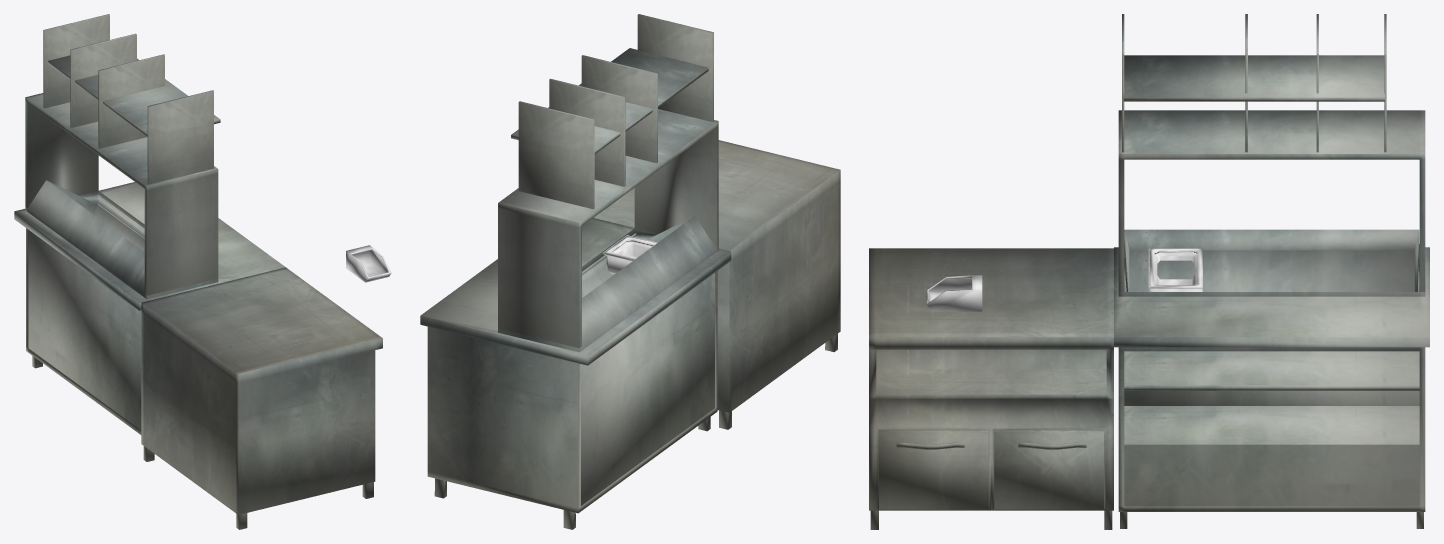
The model's file is BurgerAndTrayAreaShelf.fbx.
3 renders of one model, left to right at view 1: azimuth 30°, elevation 25°; view 2: azimuth 150°, elevation 25°; view 3: azimuth 270°, elevation 25°, orthographic. The views are drawn at different scales.
Visible parts, largest first — view 1: Shelf_C.001, Shelf_C.002; view 2: Shelf_C.001, Resources.007; view 3: Shelf_C.001, Shelf_C.002, Resources.007.
Part boxes in pixels (x1,y1,x2,y2): Shelf_C.001: (14,14,382,529); Shelf_C.002: (346,245,391,282); Shelf_C.001: (420,14,840,529); Resources.007: (602,235,657,274); Shelf_C.001: (869,14,1429,529); Shelf_C.002: (926,275,982,311); Resources.007: (1148,248,1202,291).
Bounding box in the file's own units: 127 × 237 × 275.
